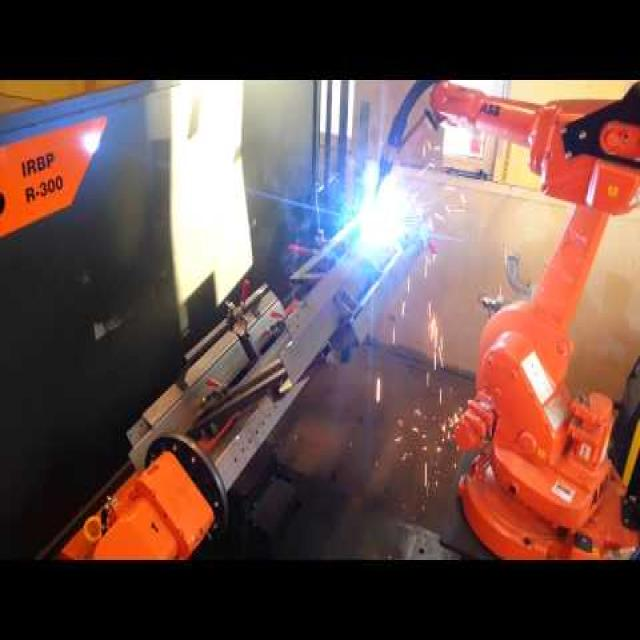welding: (359, 181, 407, 248)
